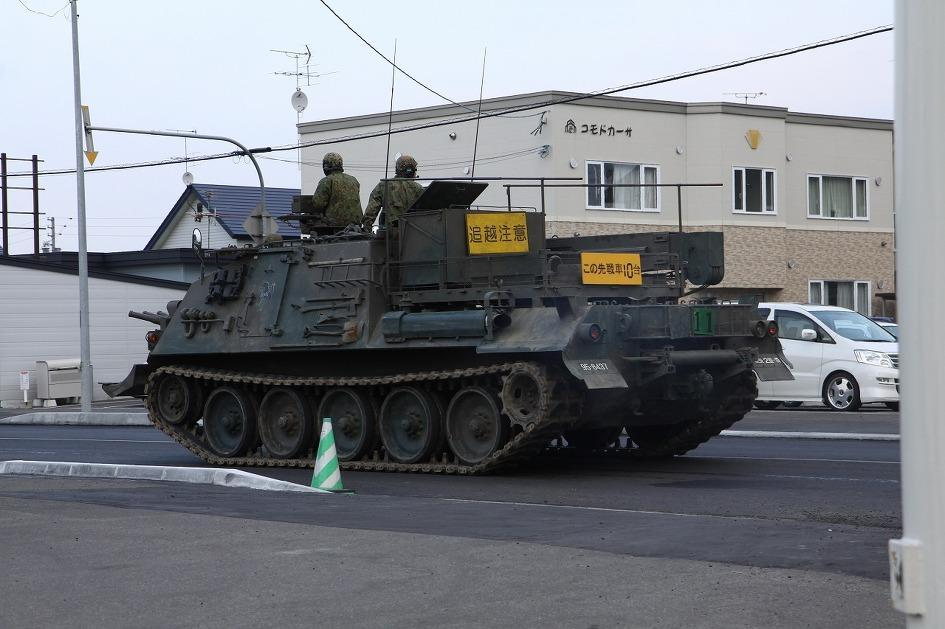MIL_IFV: (100, 141, 779, 477)
